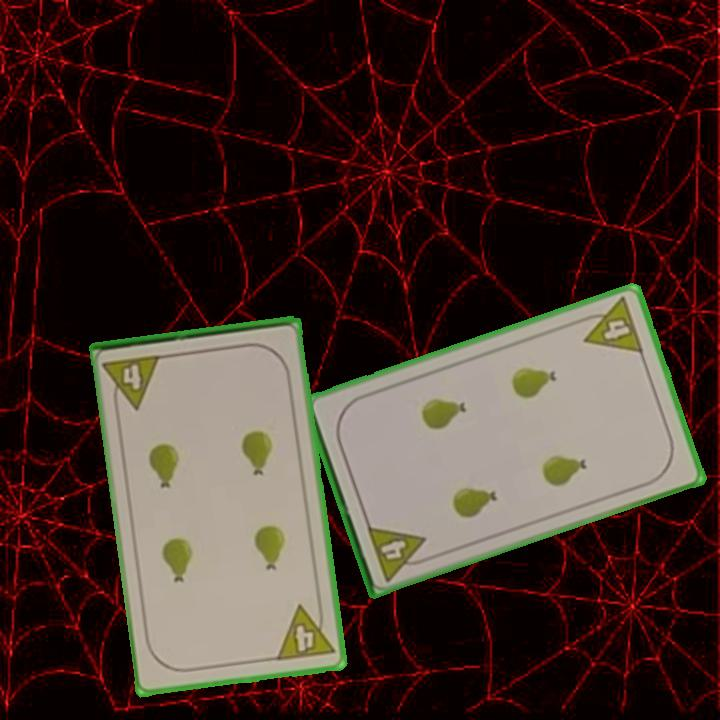4p: (574, 293, 647, 357), (363, 521, 434, 584), (272, 599, 337, 664), (99, 351, 164, 414)
